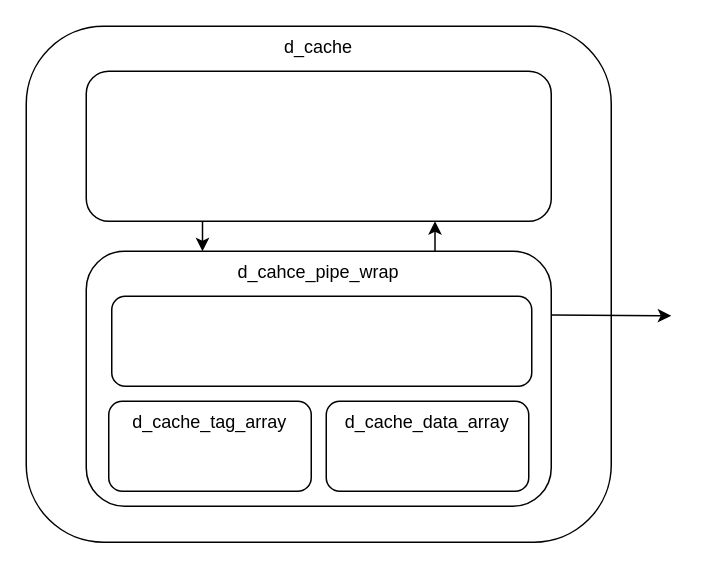
The diagram is 710 pixels wide and 569 high, and some of its shapes have lost their labels. Each missing label, with the centre of its shape:
d_cache_pipe: the point at 321,340
d_cache_tq: the point at 318,145
